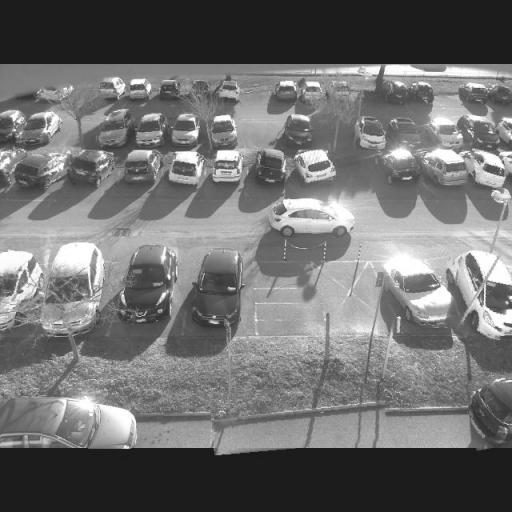busy: (28, 242, 111, 337), (0, 396, 132, 448), (384, 254, 458, 332), (449, 248, 512, 338), (106, 245, 178, 323), (186, 246, 242, 327), (270, 199, 354, 247), (469, 376, 512, 449), (6, 150, 68, 192), (0, 251, 41, 313), (62, 148, 112, 188), (422, 150, 472, 189), (465, 150, 511, 192), (294, 145, 340, 186), (12, 112, 65, 147), (89, 108, 135, 148), (115, 151, 163, 187), (248, 148, 292, 186), (128, 110, 170, 148), (380, 151, 424, 187), (348, 117, 391, 152), (424, 116, 466, 151), (202, 114, 241, 150), (164, 153, 204, 188), (460, 116, 500, 150), (167, 114, 206, 147), (281, 116, 319, 148), (209, 151, 244, 183), (386, 119, 424, 147), (376, 80, 413, 106), (38, 78, 74, 104), (459, 83, 496, 106), (0, 149, 18, 192), (0, 112, 25, 142), (406, 81, 434, 103), (126, 79, 152, 102), (487, 84, 512, 107), (216, 81, 242, 103), (272, 82, 300, 102), (188, 81, 215, 100), (100, 78, 126, 96), (496, 120, 512, 149), (158, 80, 180, 98)
free: (210, 385, 386, 452), (335, 150, 385, 186), (58, 111, 99, 148), (238, 79, 274, 107), (239, 123, 278, 147), (430, 81, 462, 106), (69, 79, 102, 102), (348, 82, 382, 104)
